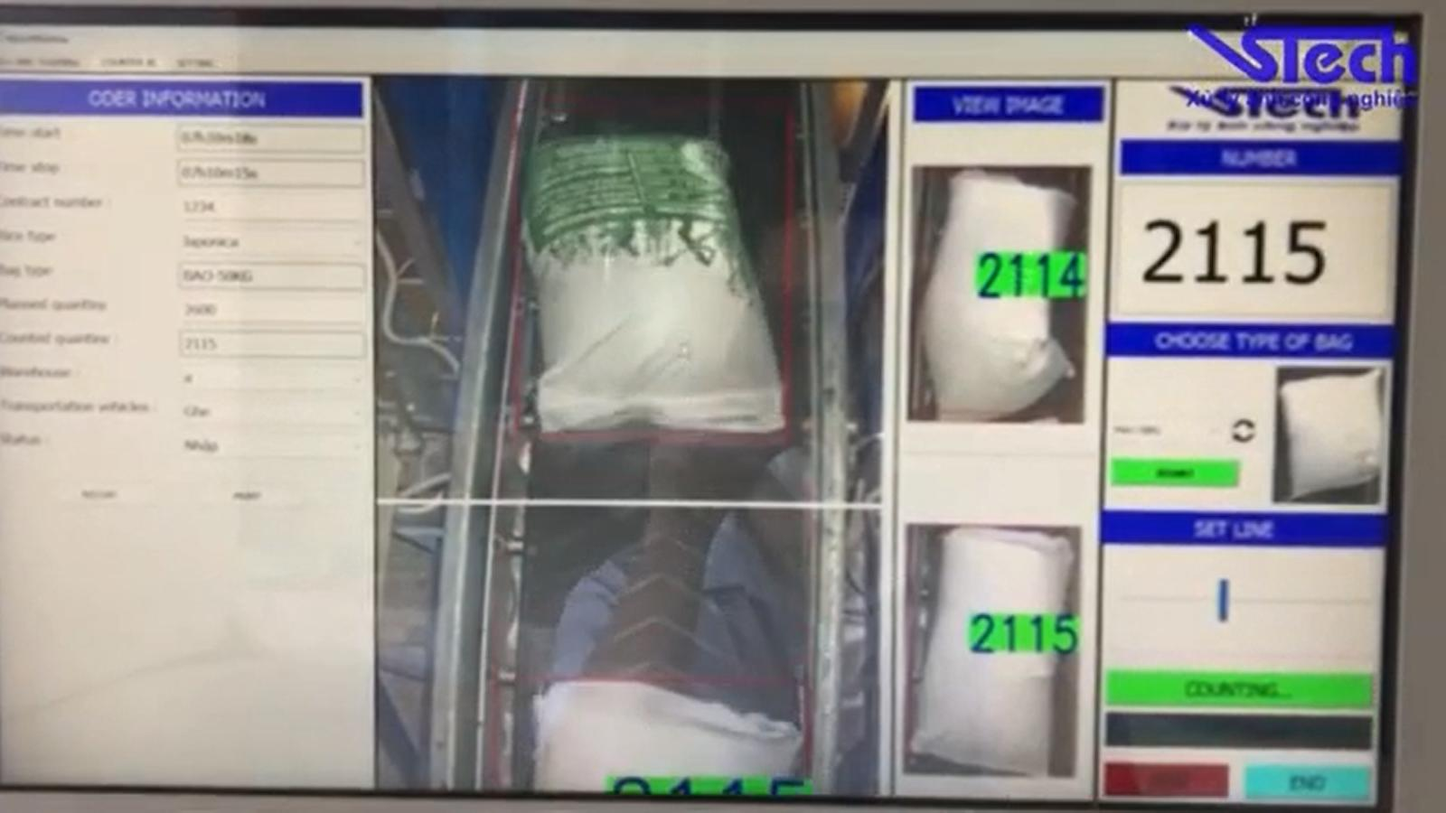rice-bag: (521, 126, 787, 435), (910, 526, 1072, 774), (918, 170, 1074, 419)
